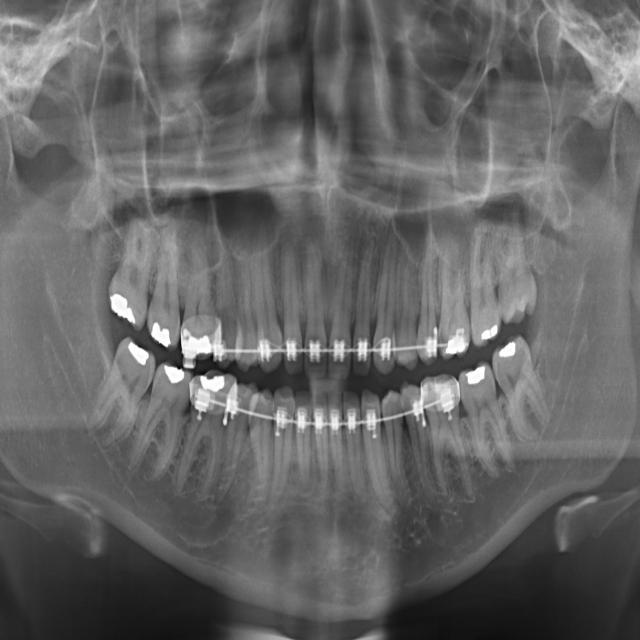AmalgamRestoration: (177, 310, 219, 364), (106, 284, 140, 332), (493, 325, 528, 368), (119, 332, 152, 369), (161, 344, 185, 393), (149, 305, 175, 349), (198, 368, 228, 402), (464, 358, 491, 390), (447, 322, 468, 363), (478, 321, 502, 346)
DentalCaries: (435, 263, 455, 372)
